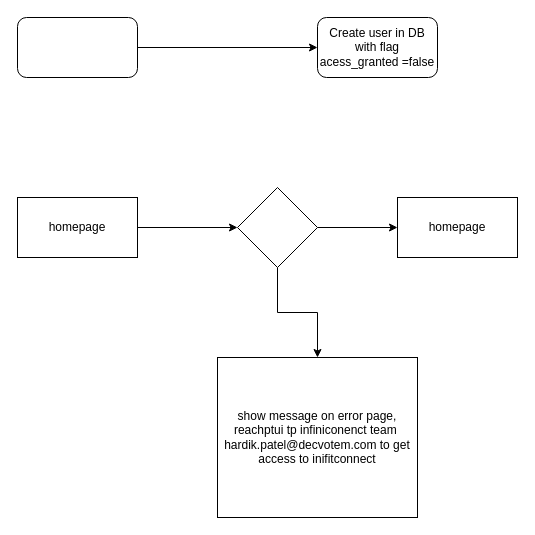
Some shapes in this 535 by 535 pixel diagram are drawn without their labels. The shapes that lost their labels are listed below. From the top down, each one's box as (x1, y1, x2, y2) in pixels, then its label:
(16, 16, 138, 78): Login - Google Somg;e Sign on
(236, 186, 318, 268): Check? access_granted=true?
